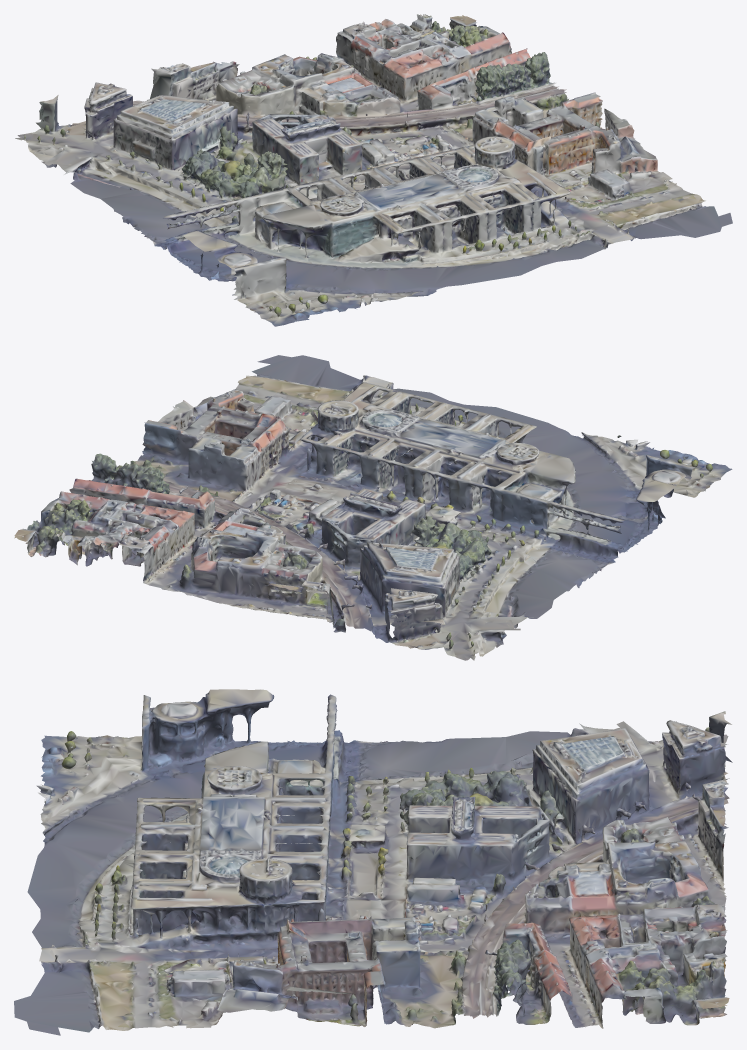
File: surface-detail-3898_58200.glb
The picture shows the model from 3 angles, top to bottom: view 1: azimuth 30°, elevation 25°; view 2: azimuth 150°, elevation 25°; view 3: azimuth 270°, elevation 25°; orthographic projection. The views are drawn at different scales.
Parts seen in each view (by area): view 1: world; view 2: world; view 3: world.
Part boxes in pixels (<box>): world: <box>15,14,732,326</box>; world: <box>14,355,732,660</box>; world: <box>14,689,732,1035</box>.
Bounding box in the file's own units: 382 × 46.17 × 382.
